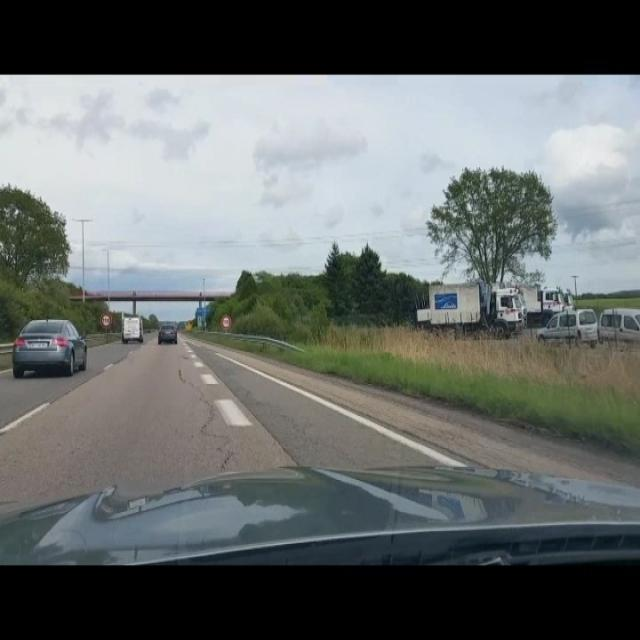speed_110: (100, 311, 113, 329), (220, 314, 232, 330)
